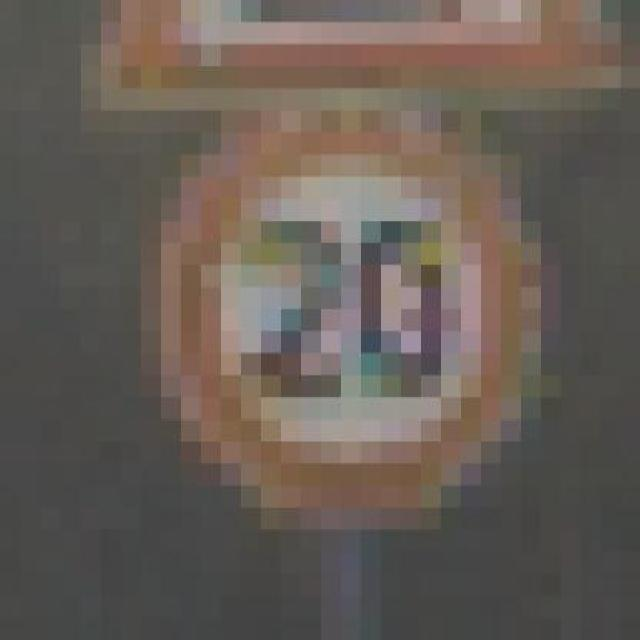Speed Limit 20 KMPh: (80, 88, 580, 530)
